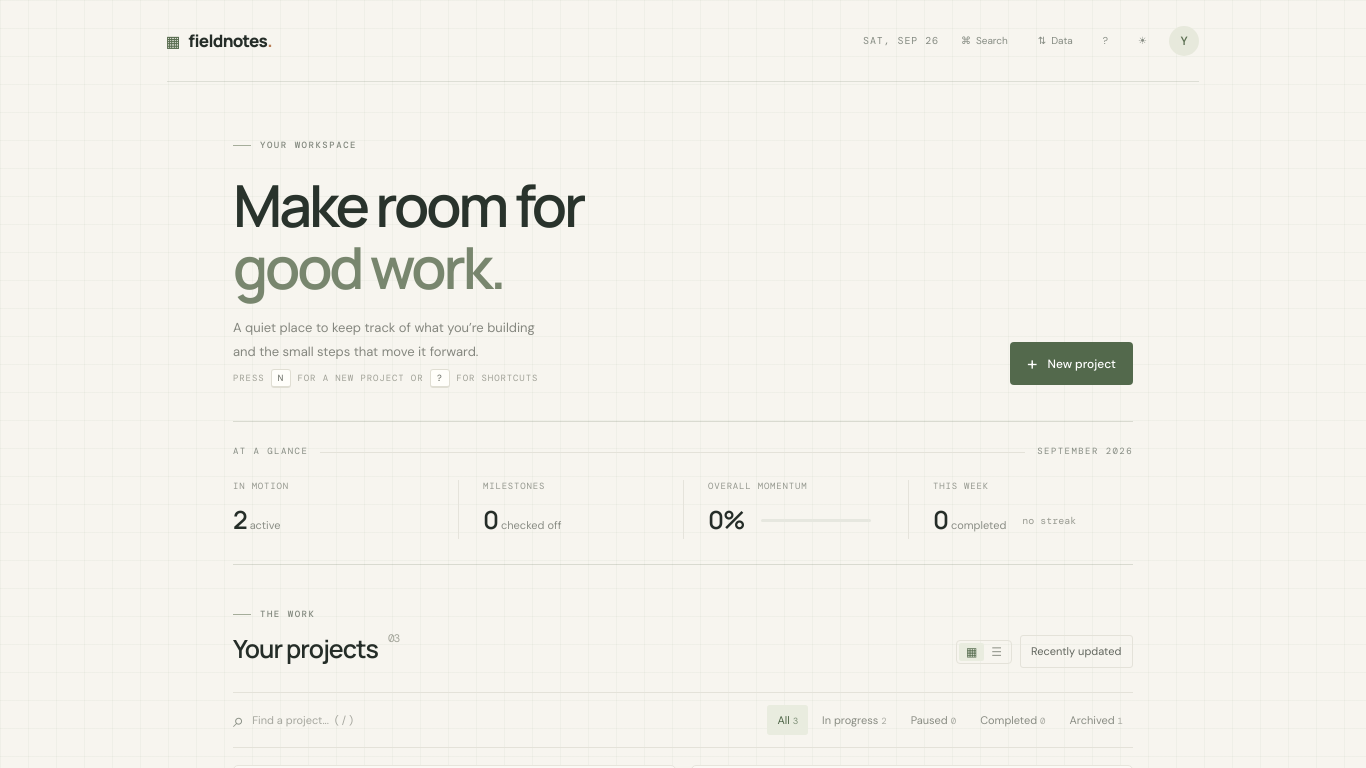
Test case: App: search and filter › hides archived projects unless asked for
The image size is (1366, 768).
Check: the text "Archived one" is not shown
Click the button "Archived1".
click(1096, 720)  # box [1060, 705, 1133, 735]
(page scrolled)
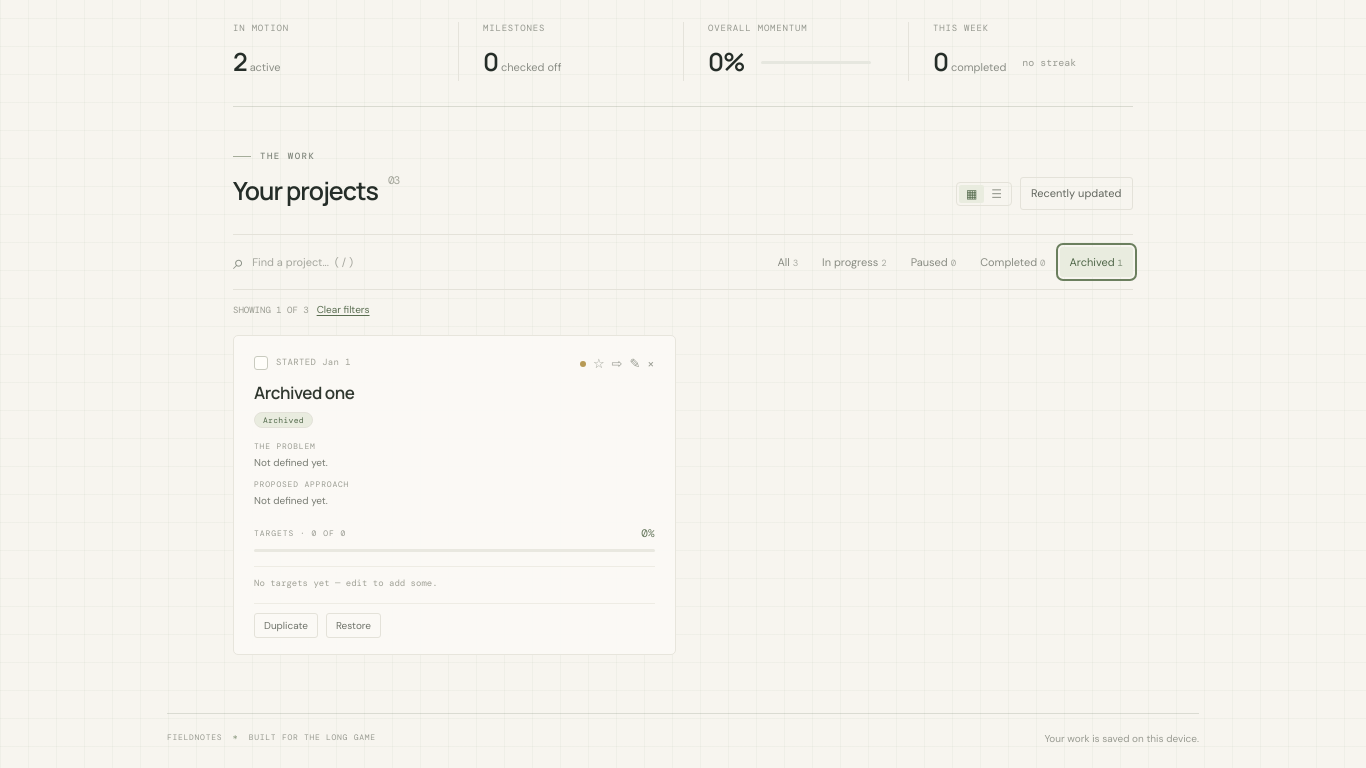
Check: the button "Archived one" is shown, box [254, 382, 354, 405]
